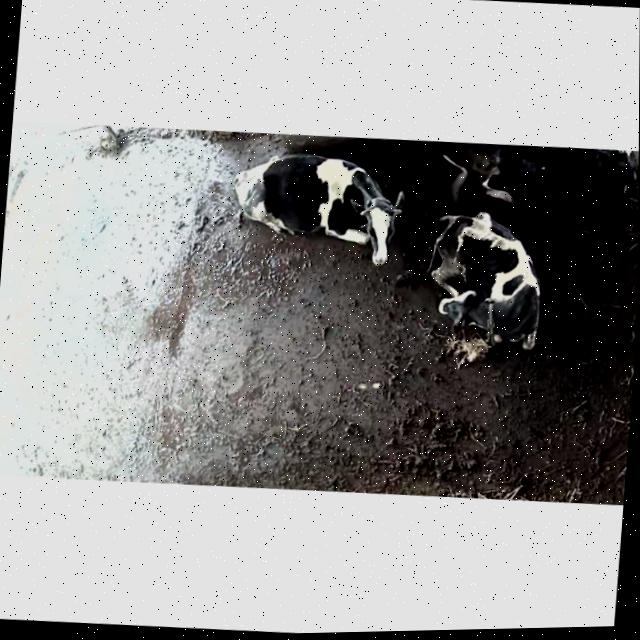lay: (210, 133, 418, 276), (416, 203, 562, 359), (428, 137, 639, 221)
